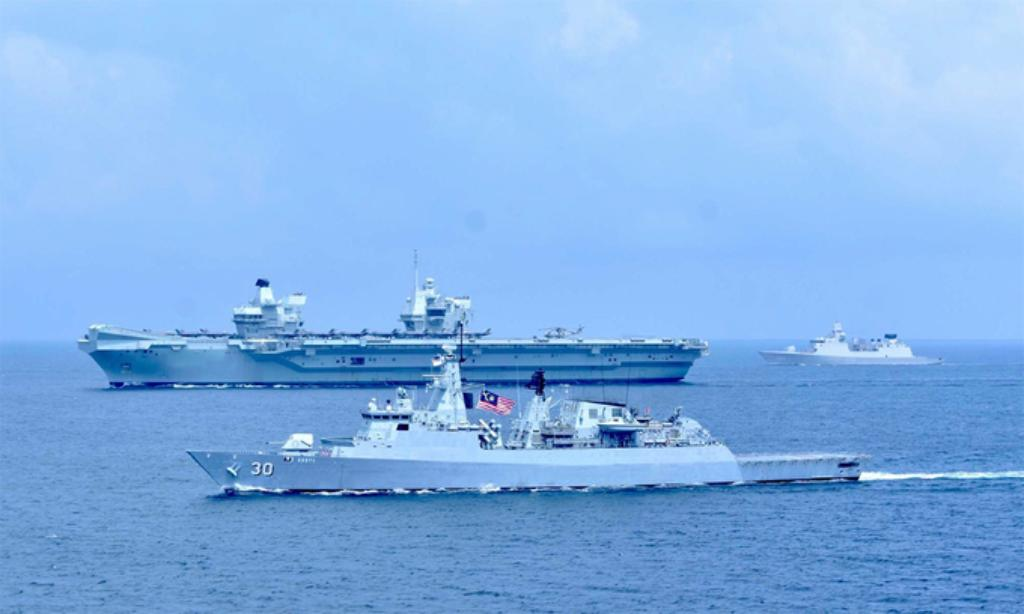Warship: (174, 343, 876, 501), (75, 244, 713, 388), (760, 322, 942, 368)
